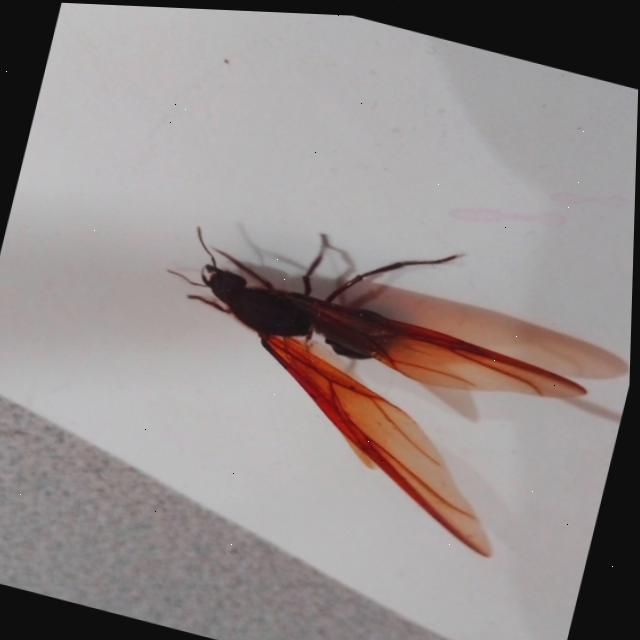Alive-Female-Alate: (119, 181, 615, 569)
